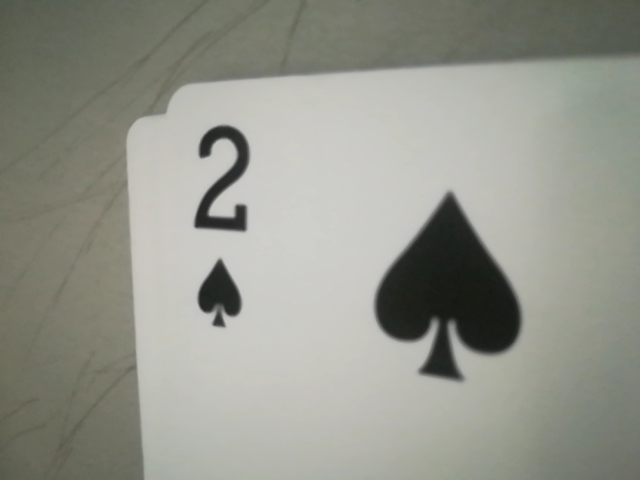ht 2: (179, 111, 273, 374)
